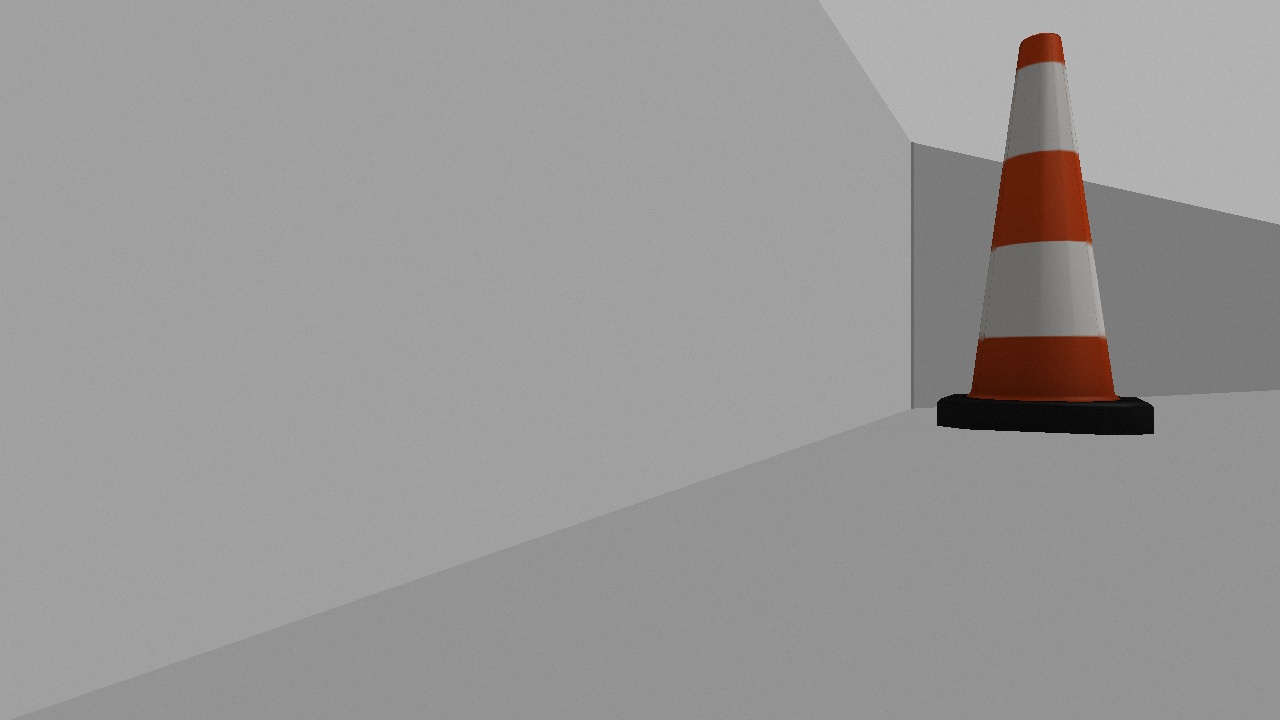barricade: (922, 20, 1168, 450)
